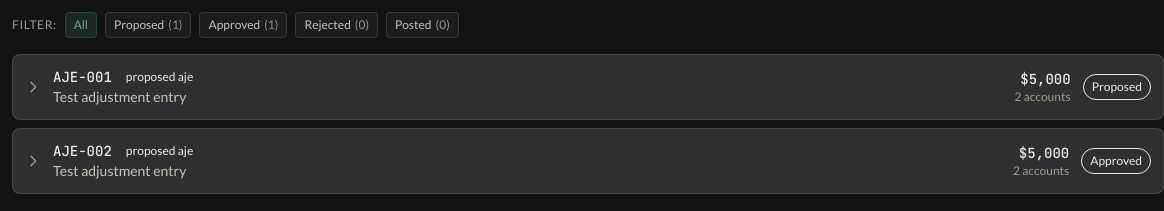
it: AdjustmentList › filters entries by status
The width and height of the screenshot is (1164, 211).
Click the button "Approved(1)". click: (243, 25)
box: [200,12,287,38]
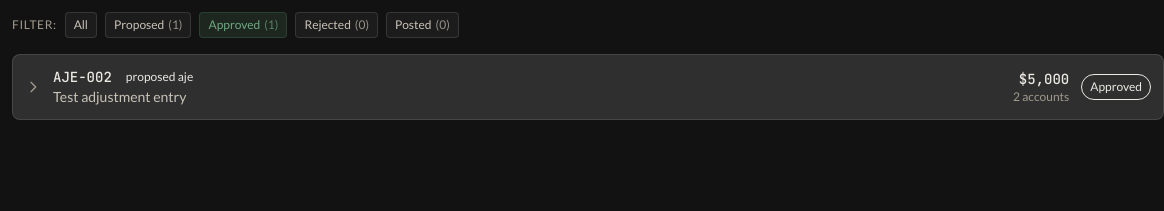
Expected: the text "AJE-002" is shown, [53,67,112,87]
Expected: the button "AJE-001" is gone
